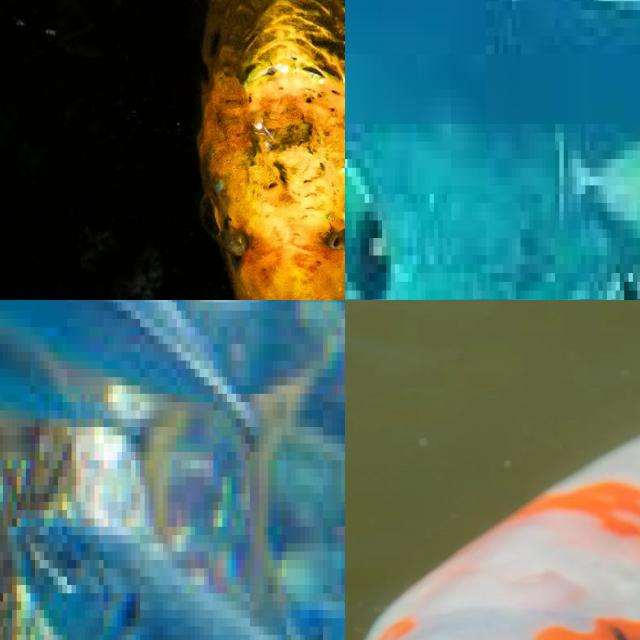fish: (0, 0, 345, 300), (345, 441, 640, 640)
